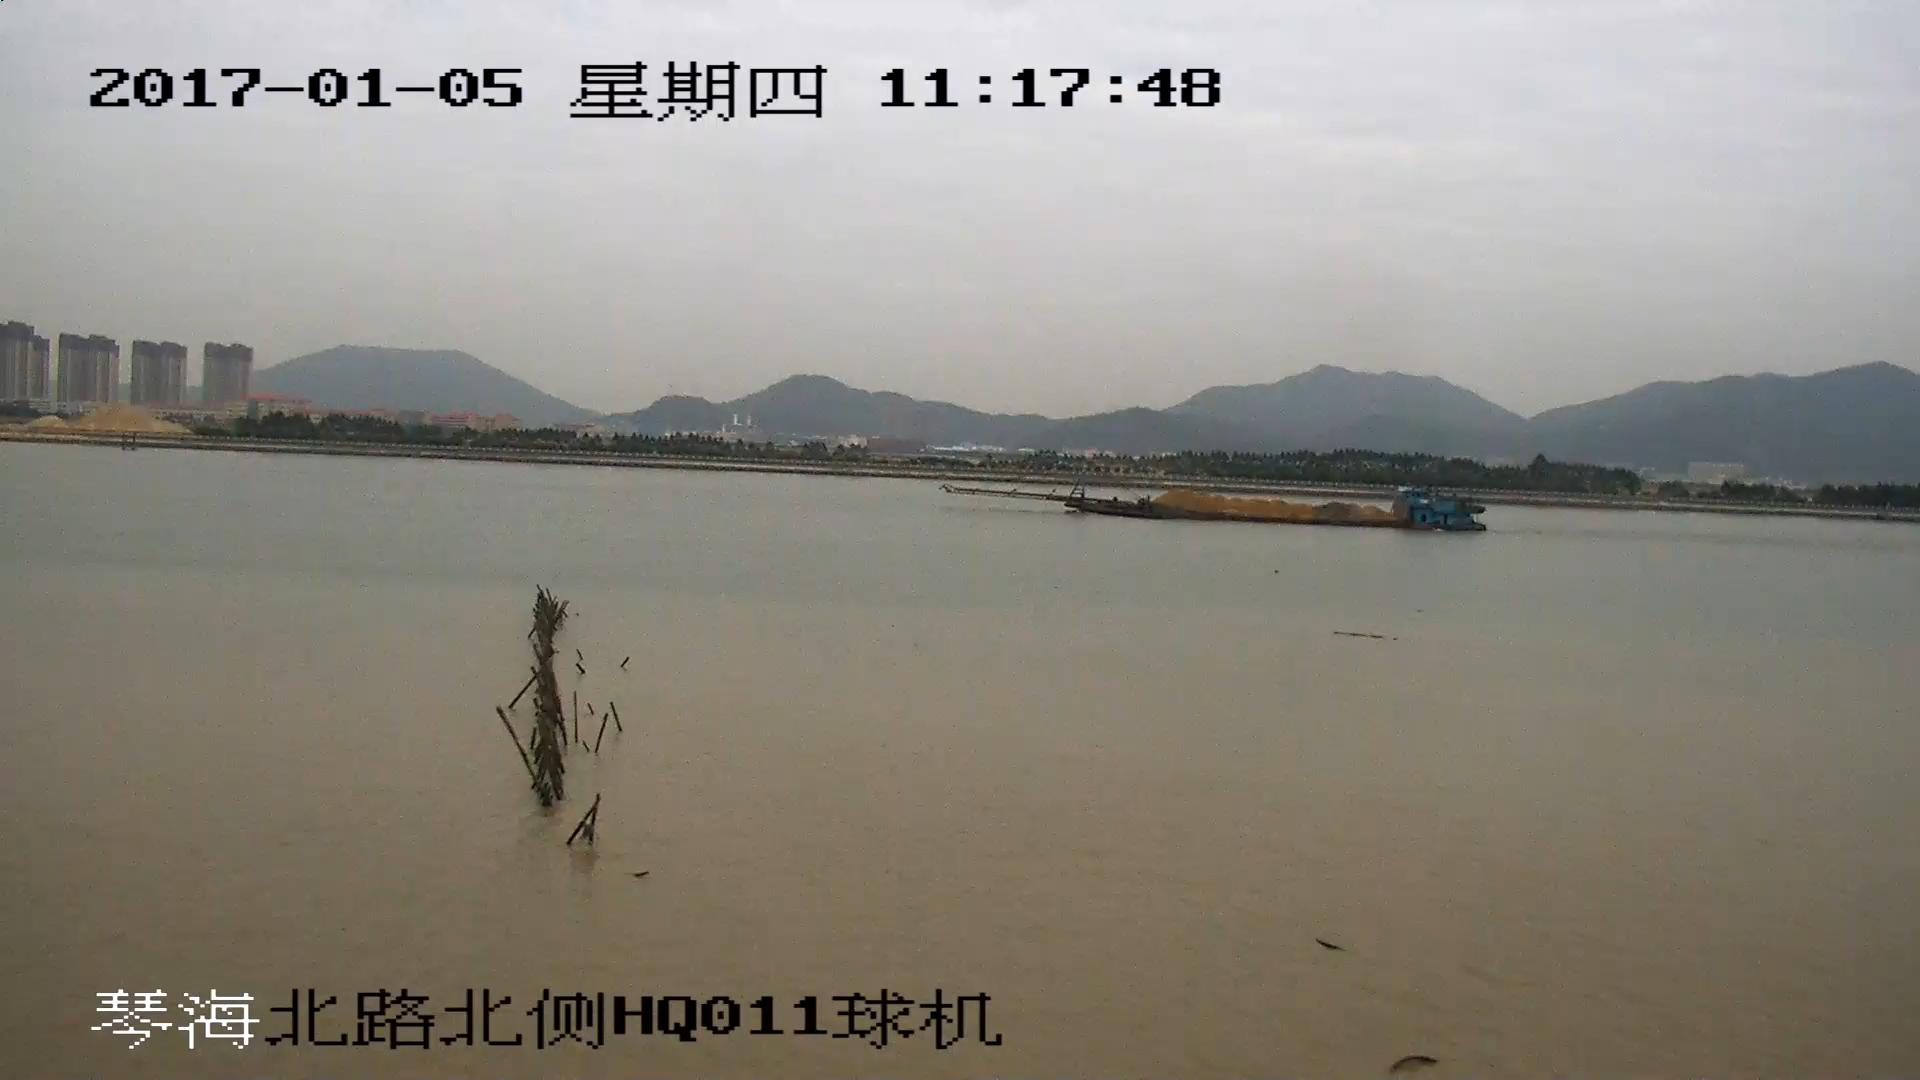ore carrier: (948, 462, 1478, 532)
